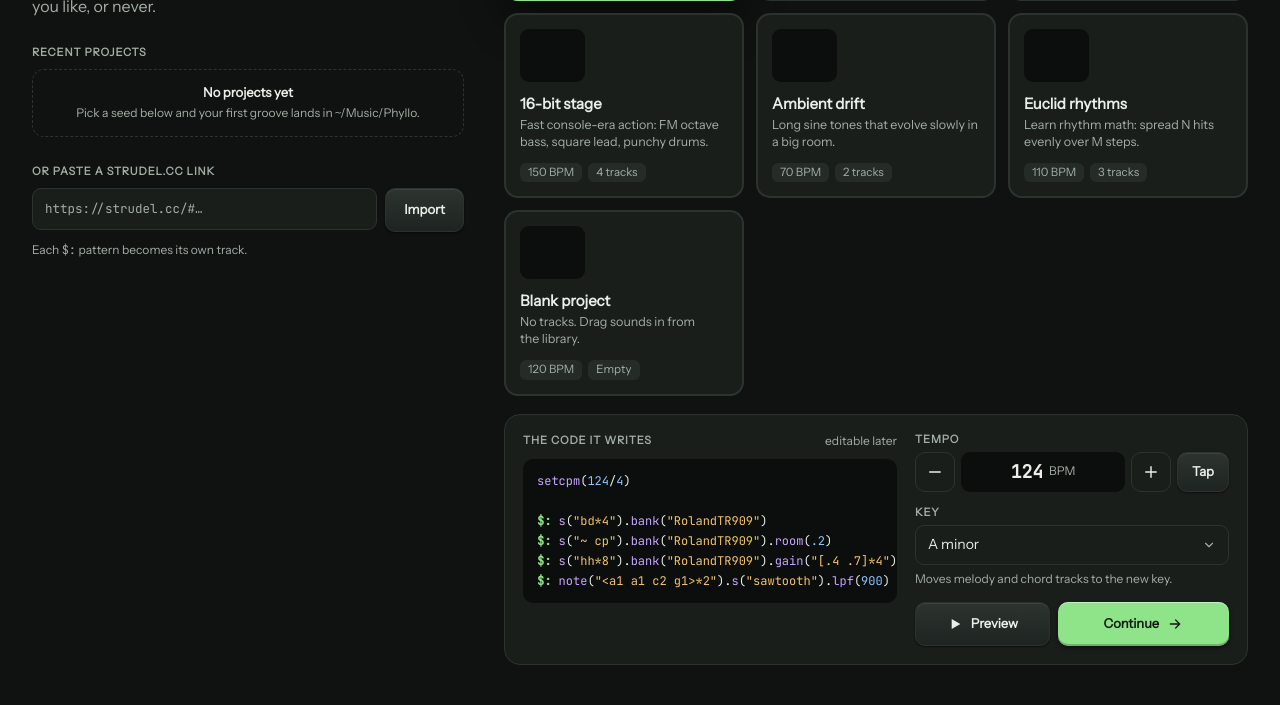
Test: StarterPicker › should transpose the melodic tracks when the key changes and leave drums alone
This screenshot has width=1280, height=705.
(page scrolled)
Select "F minor" in the dropdown named "Key" at (1061, 545), box [928,526,1194,564]
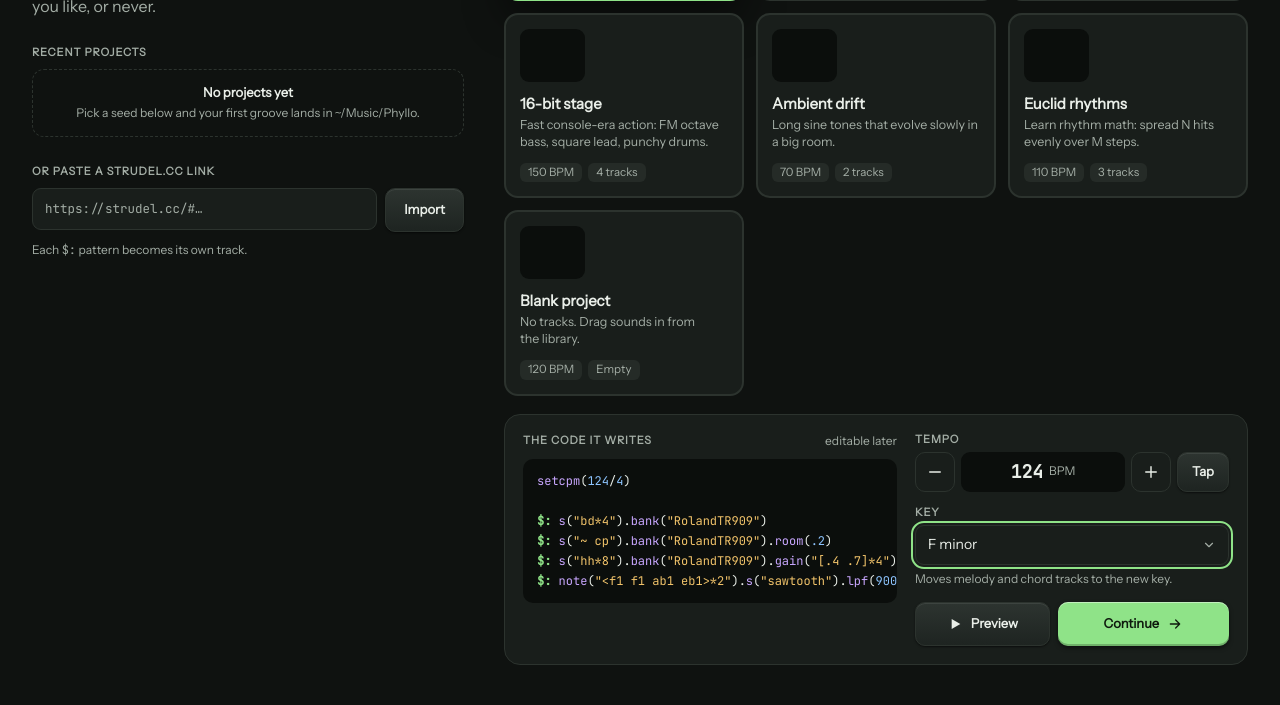
Check: the field named "The code it writes" shows "s(\"bd*4\").bank(\"RolandTR909\")", box [523,459,897,603]
Check: the field named "The code it writes" shows "note(\"<f1 f1 ab1 eb1>*2\")", box [523,459,897,603]
